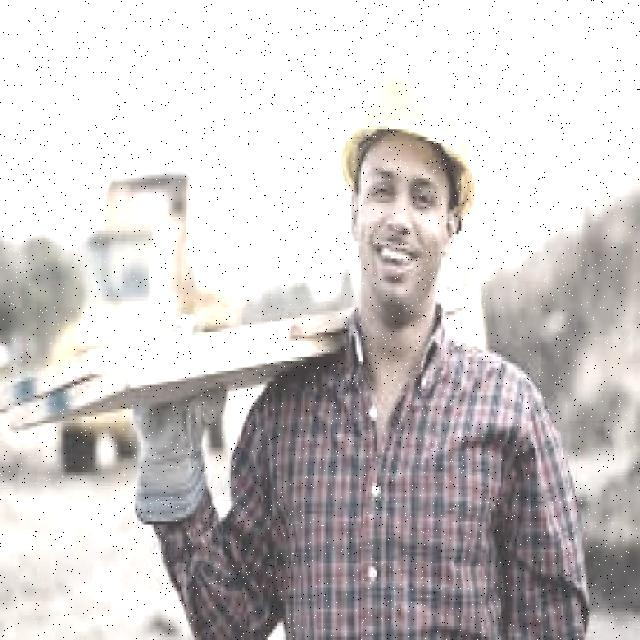Gloves: (128, 308, 228, 520)
Helmet: (338, 46, 480, 219)
